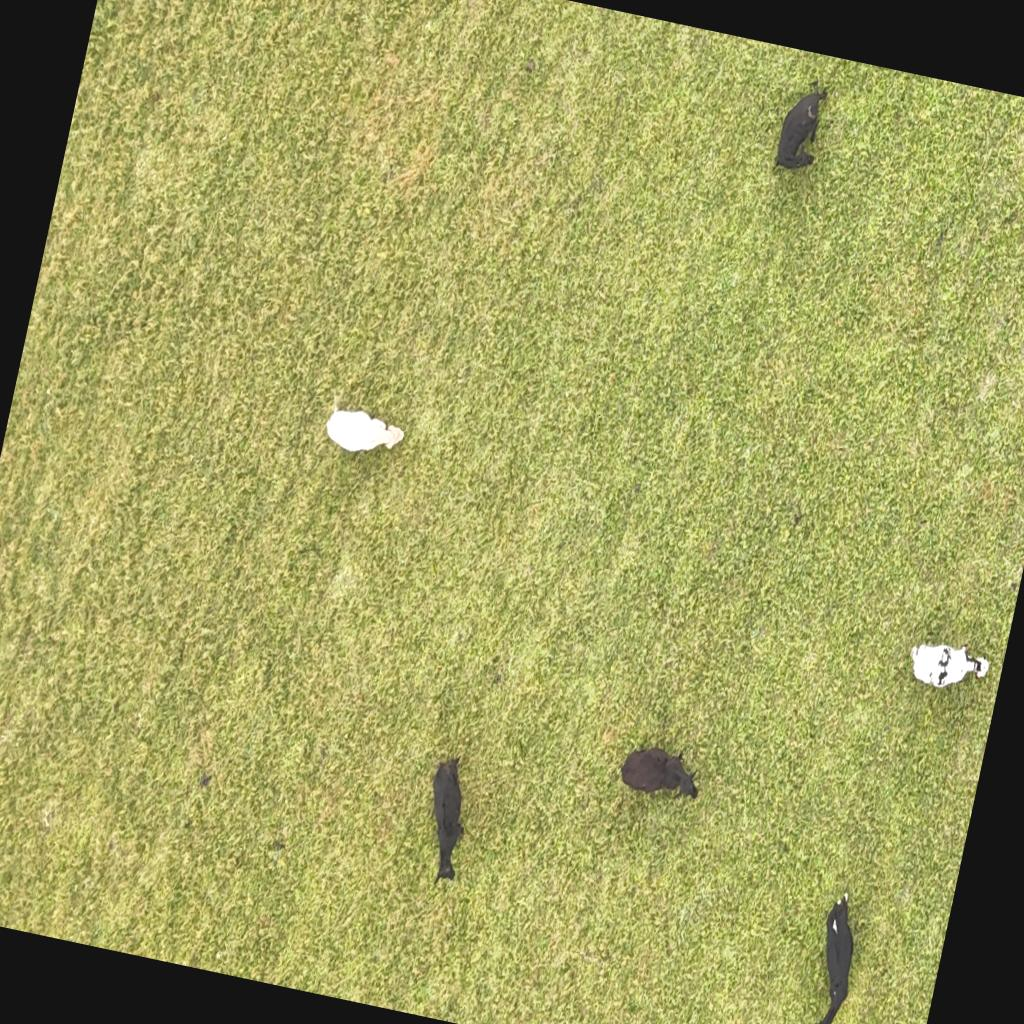cow: (410, 746, 485, 890), (799, 887, 870, 1024), (614, 736, 710, 808), (768, 77, 832, 184), (319, 394, 410, 464), (902, 633, 993, 700)
